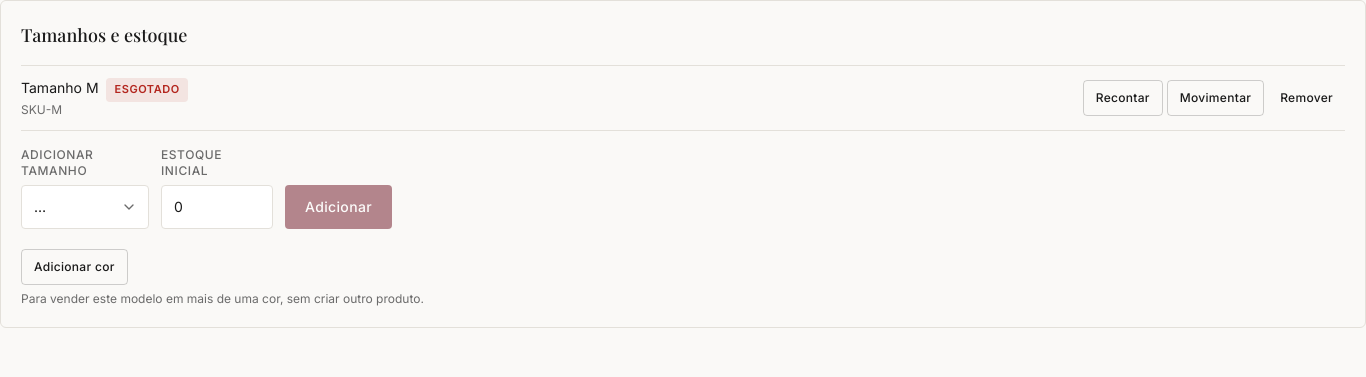
it: ProductVariantsManager › mostra a mensagem amigavel do backend quando a exclusao e bloqueada
Expected: the text "Tamanho M Esgotado" is shown, [21, 78, 188, 102]
Step 1. Click the button with aria-label "Remover tamanho M" → (1307, 98), box [1268, 80, 1345, 116]
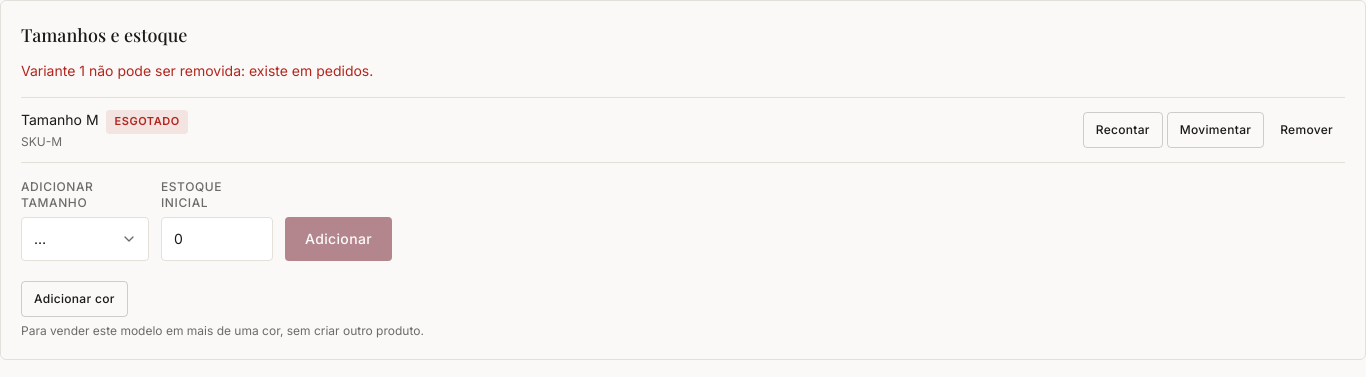
Expected: the text "Variante 1 não pode ser removida: existe em pedidos." is shown, [21, 62, 373, 79]
